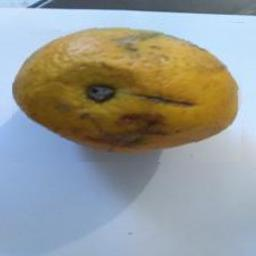Orange Semirotten: (13, 15, 245, 162)
